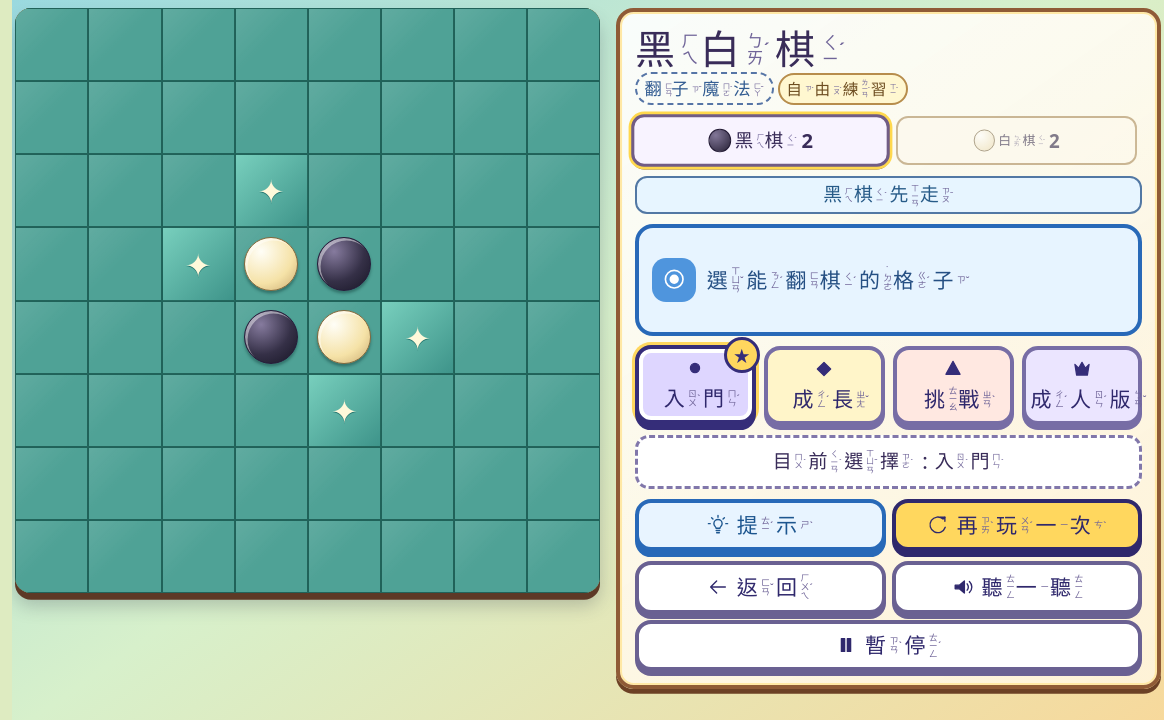
Test: 黑白棋正式美術提案畫面 › 自由練習在白棋回合由 NPC 接手且暫時鎖定棋盤
Step 1. Click the cell named "可以落子的格子" → (271, 191), box [235,154,308,228]
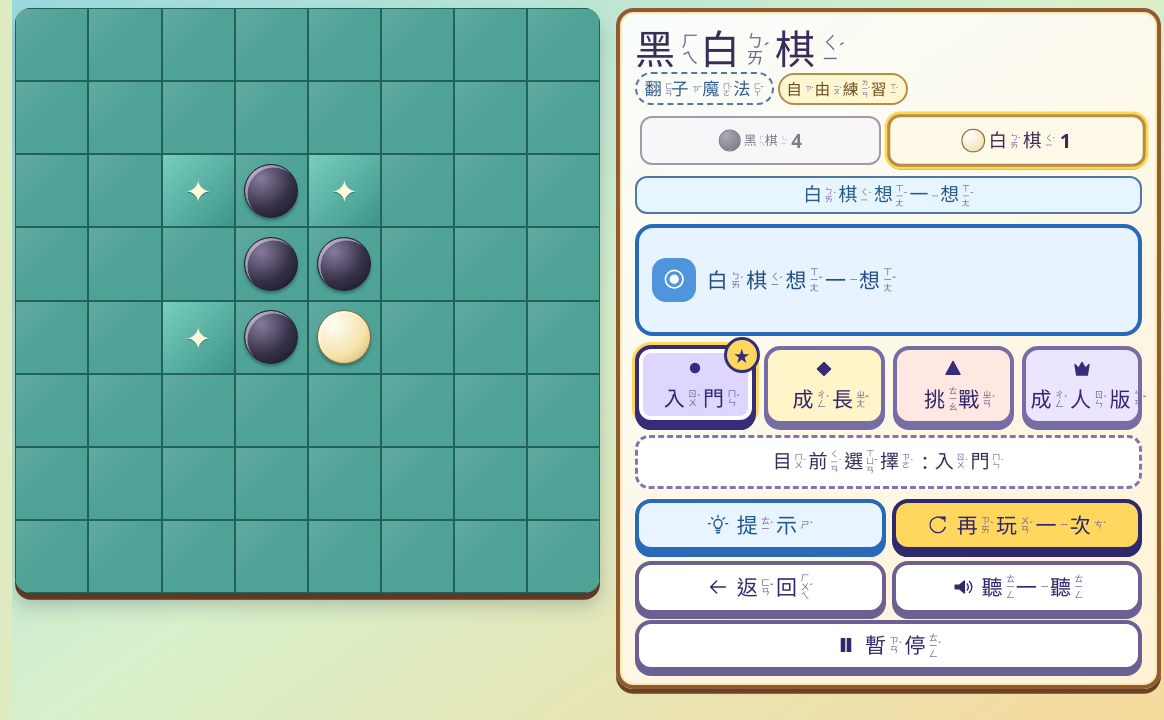
Check: the message named "白棋想一想" is shown, box [635,176,1142,214]
